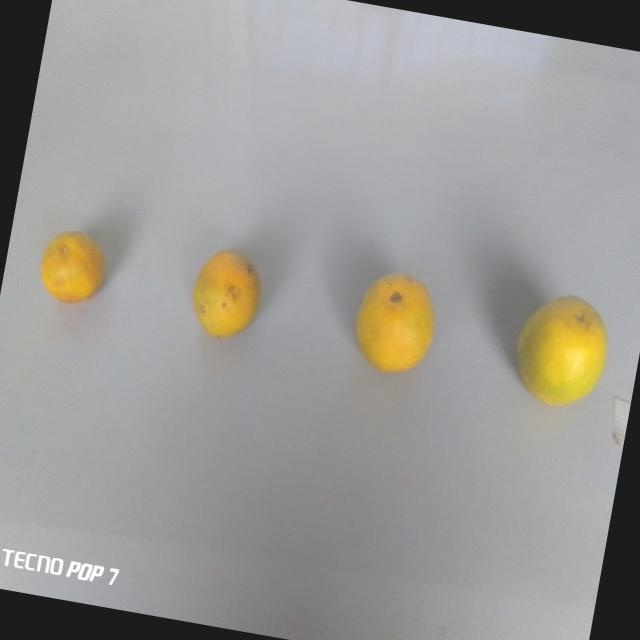agrume: (500, 282, 621, 422), (342, 262, 446, 386), (182, 239, 271, 349), (32, 221, 112, 315)
